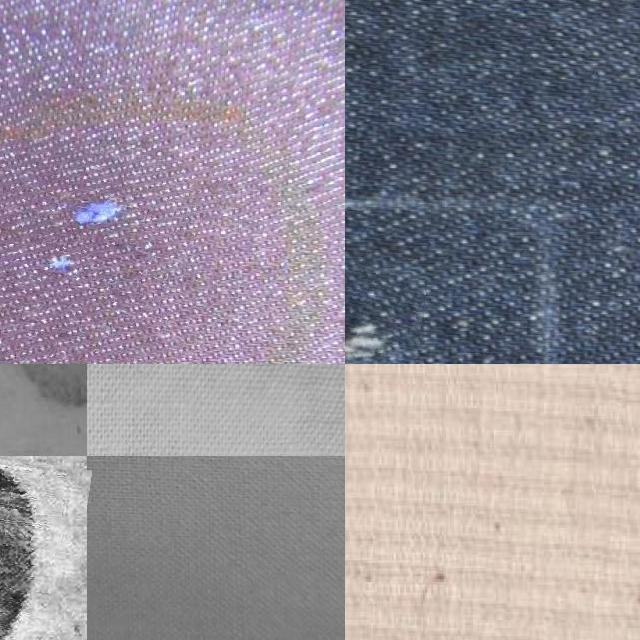Thread_other: (0, 451, 81, 640)
stains: (0, 144, 220, 364), (345, 261, 422, 364)
